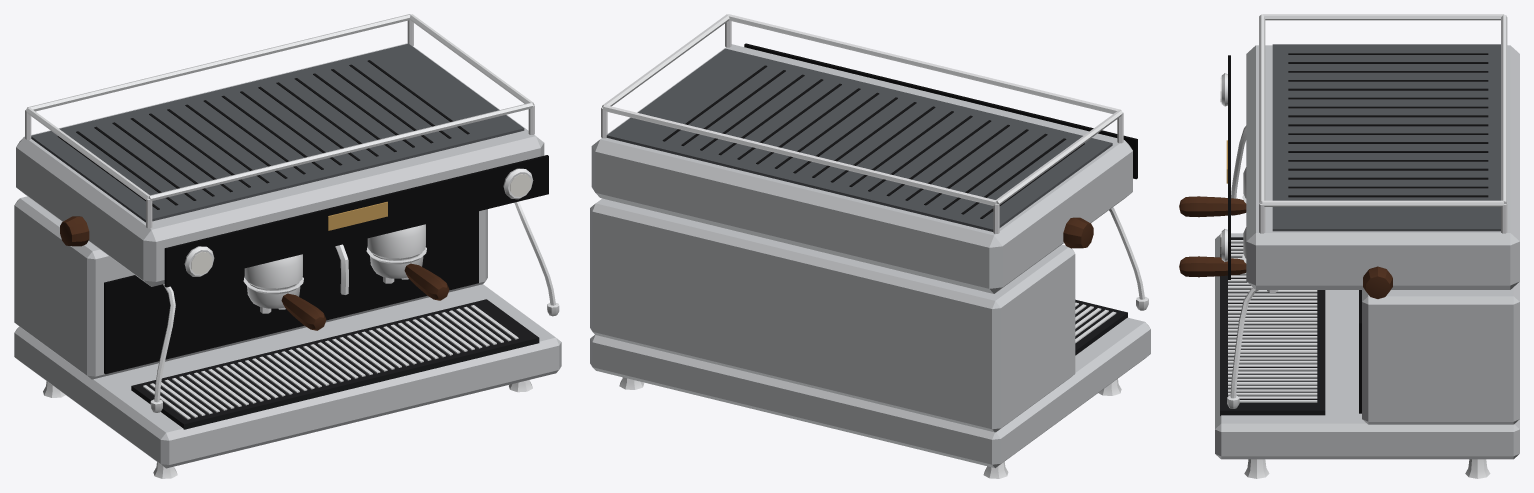
File: espresso_steel.glb
3 views of the same model, side by side, from view 1: azimuth 30°, elevation 25°; view 2: azimuth 150°, elevation 25°; view 3: azimuth 270°, elevation 25° (orthographic). The views are drawn at different scales.
Parts seen in each view (by area): view 1: steel_2g; view 2: steel_2g; view 3: steel_2g.
Part boxes in pixels (x1,y1,x2,y2): steel_2g: (14, 14, 561, 478); steel_2g: (590, 14, 1150, 478); steel_2g: (1179, 14, 1519, 478).
Size of the model in its own units: 0.96 by 0.5858 by 0.648.
